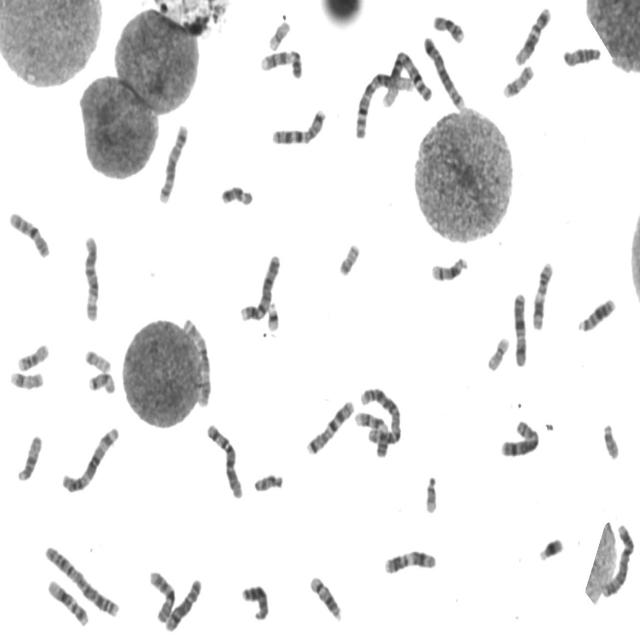A1: (352, 66, 416, 140), (378, 46, 434, 106)
A2: (41, 540, 121, 619), (356, 382, 404, 449)
A3: (57, 422, 121, 494), (180, 313, 213, 408)
B4: (237, 249, 282, 324), (600, 522, 637, 597)
B5: (420, 31, 467, 111), (155, 119, 190, 205)
C10: (6, 206, 52, 260), (146, 566, 176, 624)
C11: (529, 257, 555, 331), (380, 544, 438, 576)
C12: (512, 2, 552, 66), (43, 574, 90, 627)
C6: (203, 418, 245, 501), (80, 230, 102, 323)
C7: (302, 394, 356, 457), (268, 103, 328, 147)
C8: (162, 574, 203, 633), (497, 415, 541, 459)
C9: (351, 406, 391, 458), (257, 44, 304, 81)
D13: (574, 292, 617, 333), (238, 579, 271, 622)
D14: (306, 571, 344, 623), (428, 251, 470, 283)
D15: (14, 430, 43, 483), (560, 42, 602, 68)
E16: (429, 8, 465, 44), (14, 339, 50, 373)
E17: (500, 59, 535, 99), (7, 367, 44, 391)
E18: (217, 180, 255, 207), (83, 367, 116, 396)
F19: (484, 331, 511, 373), (266, 16, 292, 52)
F20: (336, 238, 362, 278), (82, 344, 112, 374)
G21: (535, 532, 566, 563), (264, 298, 280, 332)
G22: (422, 471, 439, 515), (253, 472, 285, 492)
X: (510, 287, 529, 368)
Y: (600, 418, 621, 461)
